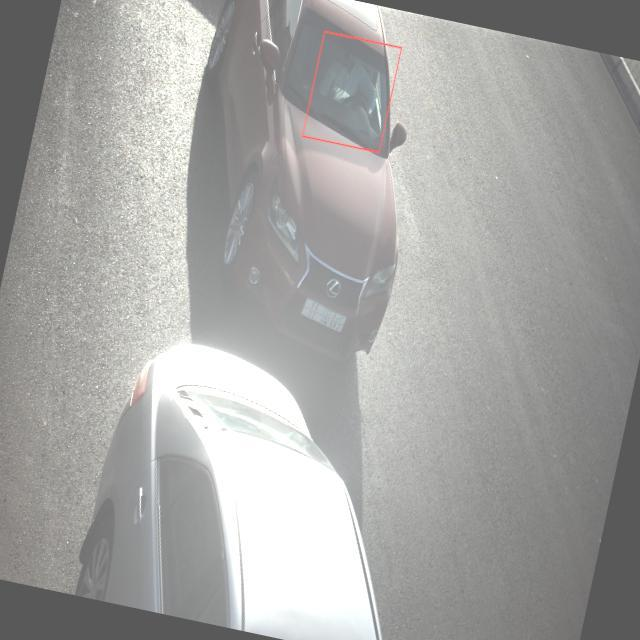windshield: (273, 6, 405, 164)
